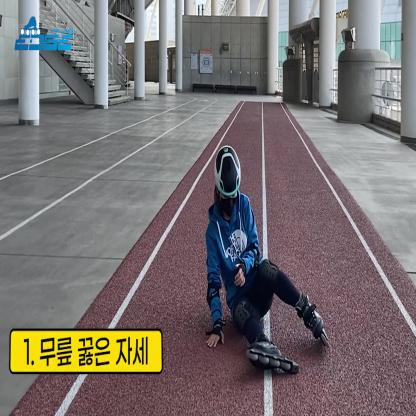Fall_Down: (206, 144, 324, 364)
